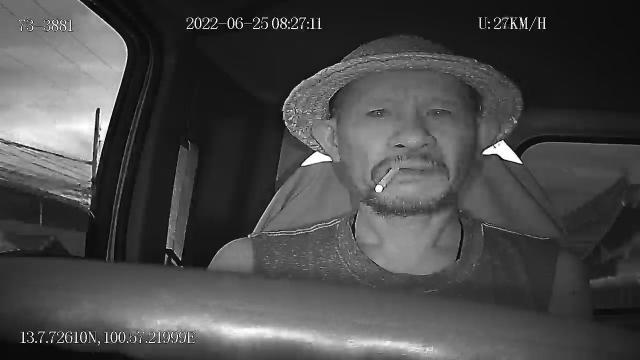SafeDriving: (418, 98, 458, 124), (361, 98, 397, 124)
Smoking: (374, 166, 400, 194)
